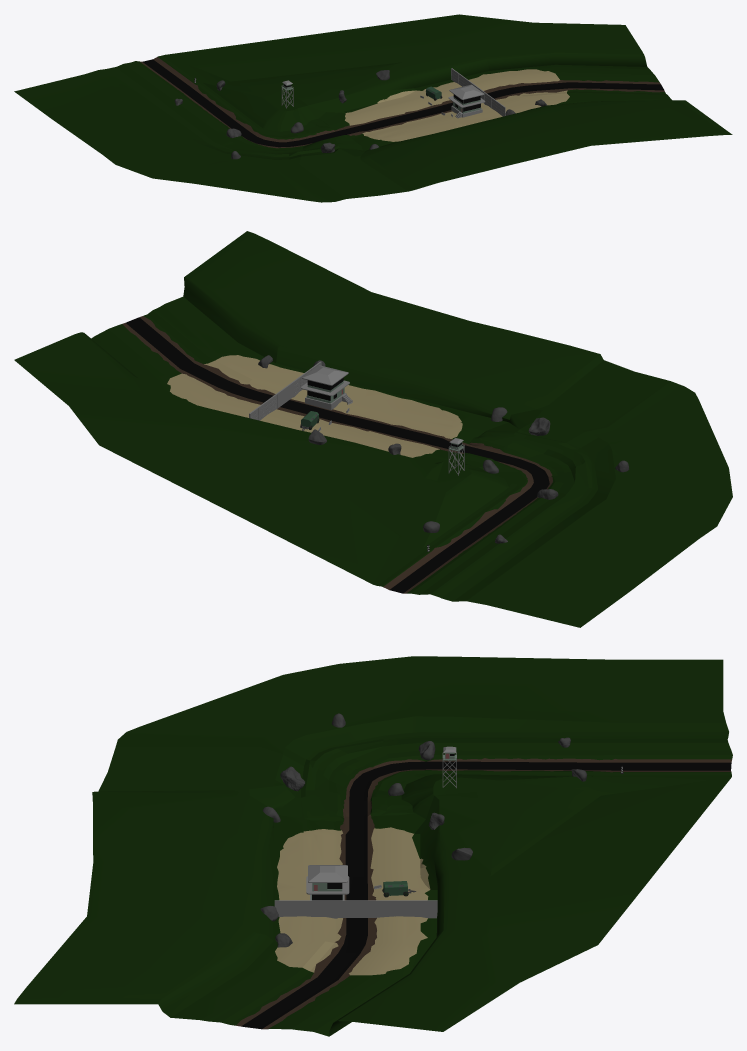
Rendered from Lokacja_1.fbx.
3 views of the same model, one above another, from view 1: azimuth 30°, elevation 25°; view 2: azimuth 150°, elevation 25°; view 3: azimuth 270°, elevation 25° (orthographic). The views are drawn at different scales.
Visible parts, largest first — view 1: Cube.001, Cube.006; view 2: Cube.001, Cube.006, Stena.001; view 3: Cube.001, Stena.001, Cube.006, Stena.002.
Part boxes in pixels (x1,y1,x2,y2): Cube.001: [14, 14, 732, 202]; Cube.006: [448, 84, 485, 118]; Cube.001: [14, 231, 732, 627]; Cube.006: [301, 365, 351, 410]; Stena.001: [249, 381, 293, 420]; Cube.001: [14, 656, 732, 1036]; Stena.001: [337, 900, 437, 918]; Cube.006: [306, 865, 349, 900]; Stena.002: [274, 900, 337, 918].
Size of the model in its own units: 463216 by 33241 by 365936.
